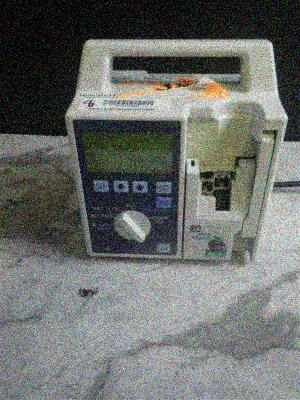plumxl1: (68, 32, 288, 266)
